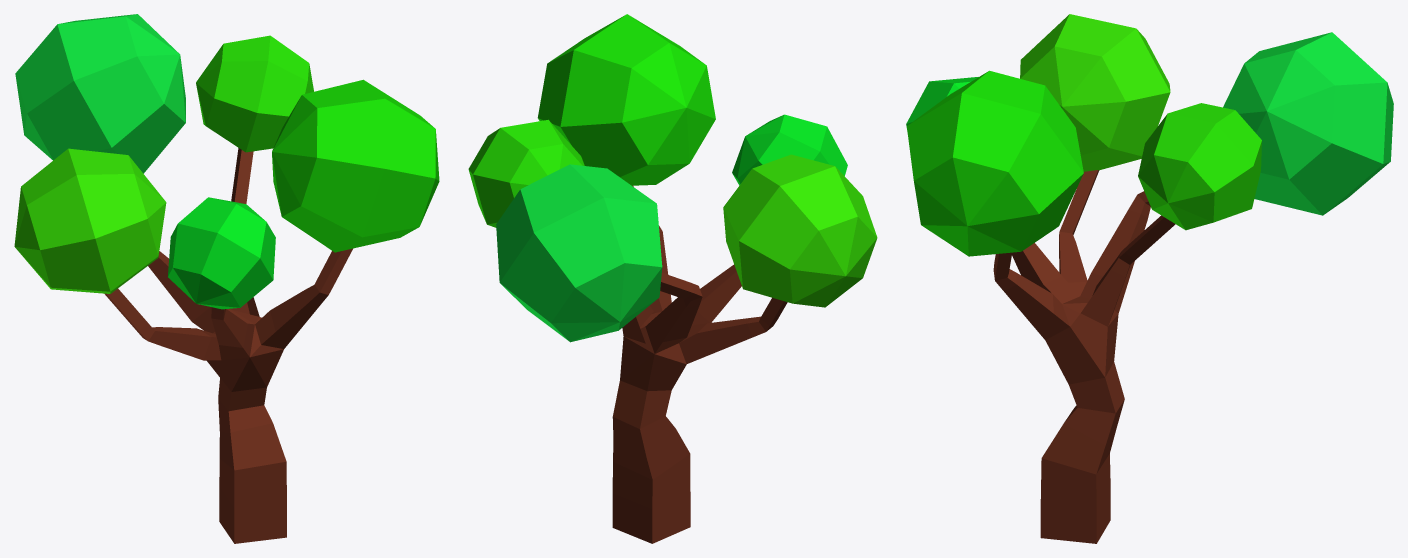
The model's file is Arbol_3.fbx.
3 renders of one model, left to right at view 1: azimuth 30°, elevation 25°; view 2: azimuth 150°, elevation 25°; view 3: azimuth 270°, elevation 25°, orthographic. The views are drawn at different scales.
Parts seen in each view (by area): view 1: Sphere.001; view 2: Sphere.001; view 3: Sphere.001.
Part boxes in pixels (x1=…): Sphere.001: x1=14, y1=14, x2=439, y2=543; Sphere.001: x1=468, y1=14, x2=877, y2=543; Sphere.001: x1=906, y1=14, x2=1393, y2=543.
Size of the model in its own units: 1.13 by 1.37 by 1.27.
